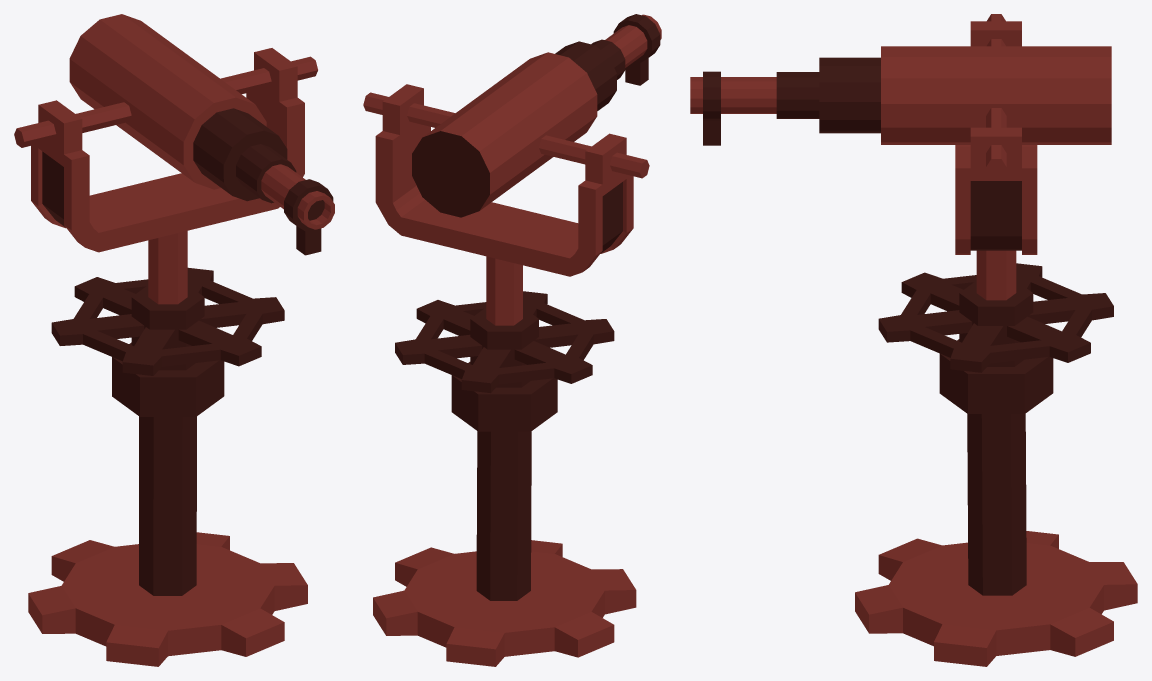
File: Gun.glb
3 views of the same model, side by side, from view 1: azimuth 30°, elevation 25°; view 2: azimuth 150°, elevation 25°; view 3: azimuth 270°, elevation 25° (orthographic). The views are drawn at different scales.
Parts seen in each view (by area): view 1: Gun_Simple_Mid, Gun_Simple_Gun, Gun_Simple_Base; view 2: Gun_Simple_Mid, Gun_Simple_Gun, Gun_Simple_Base; view 3: Gun_Simple_Mid, Gun_Simple_Gun, Gun_Simple_Base.
Part boxes in pixels (x1,y1,x2,y2): Gun_Simple_Mid: (14, 48, 317, 595); Gun_Simple_Gun: (69, 14, 334, 255); Gun_Simple_Base: (28, 532, 307, 666); Gun_Simple_Mid: (363, 84, 649, 600); Gun_Simple_Gun: (412, 14, 661, 217); Gun_Simple_Base: (373, 540, 636, 666); Gun_Simple_Mid: (878, 14, 1113, 595); Gun_Simple_Gun: (690, 46, 1111, 145); Gun_Simple_Base: (855, 531, 1137, 666).
Bounding box in the file's own units: 0.6272 × 1.13 × 0.8178.
